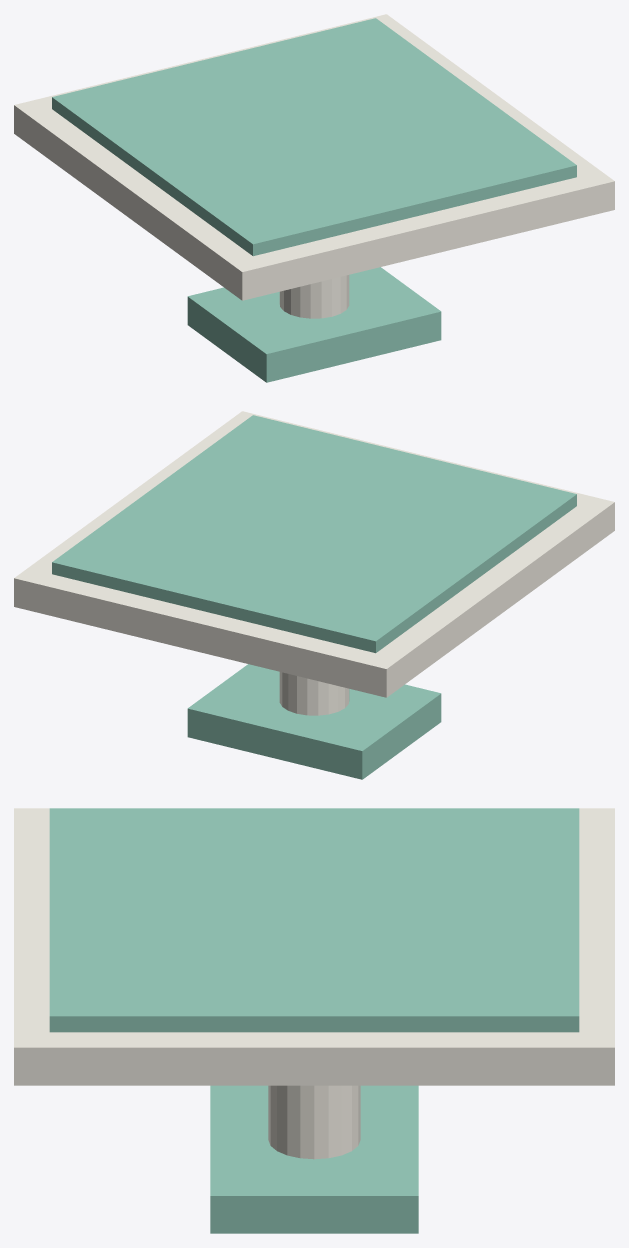
The model's file is table.glb.
3 views of the same model, one above another, from view 1: azimuth 30°, elevation 25°; view 2: azimuth 150°, elevation 25°; view 3: azimuth 270°, elevation 25° (orthographic). The views are drawn at different scales.
Parts seen in each view (by area): view 1: soft exam mat, exam table, table base, table pedestal; view 2: soft exam mat, exam table, table base, table pedestal; view 3: soft exam mat, exam table, table base, table pedestal.
Boxes of the visible parts, x1,y1,x2,y2 form: soft exam mat: (52,18,576,256); exam table: (14,14,614,300); table base: (187,267,441,382); table pedestal: (279,275,349,318); soft exam mat: (52,415,576,653); exam table: (14,411,614,697); table base: (187,664,441,779); table pedestal: (279,672,349,715); soft exam mat: (49,808,579,1032); exam table: (14,808,614,1085); table base: (210,1085,418,1233); table pedestal: (268,1085,360,1159).
Bounding box in the file's own units: 2.45 × 1.27 × 2.6.
